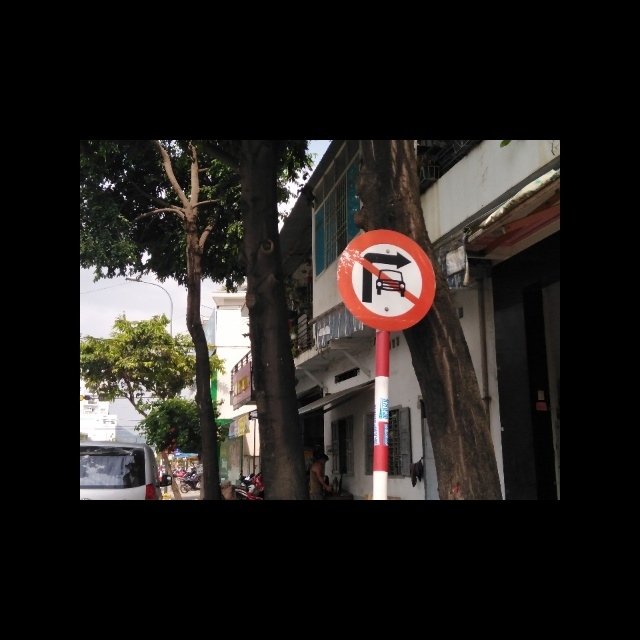Cấm xe ô tô rẽ trái: (335, 229, 438, 333)
